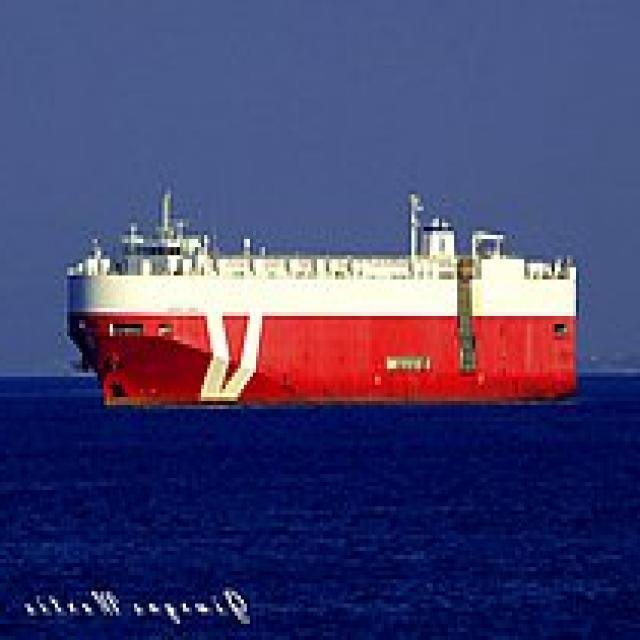Carrier: (64, 182, 585, 409)
